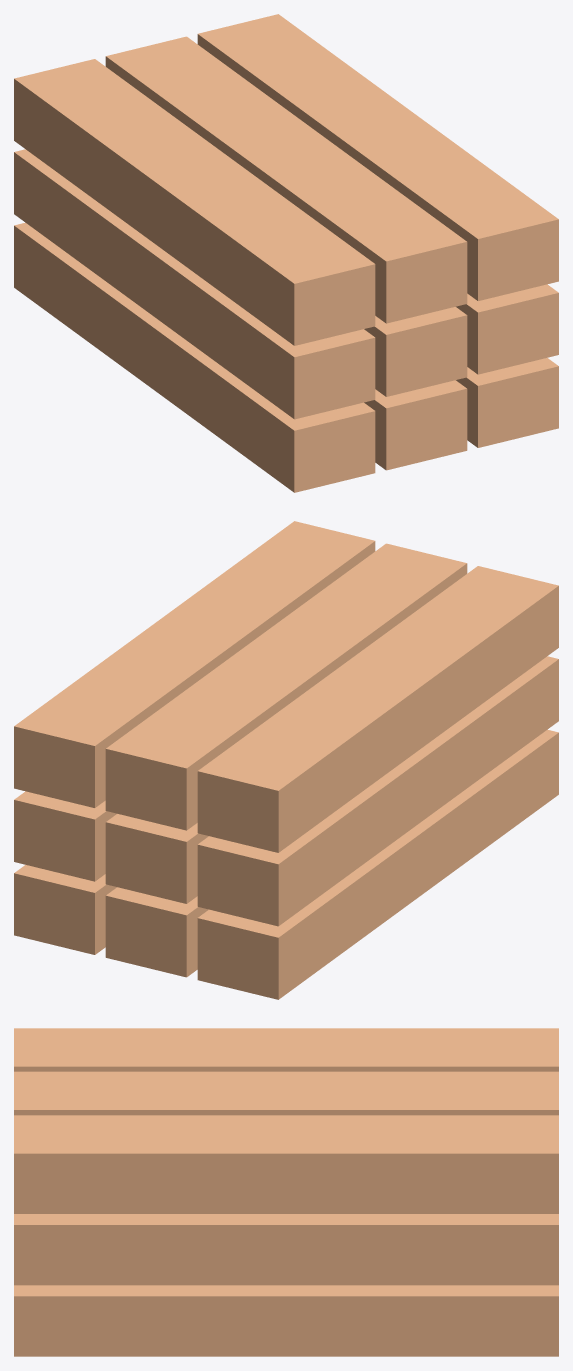
3 renders of one model, top to bottom at view 1: azimuth 30°, elevation 25°; view 2: azimuth 150°, elevation 25°; view 3: azimuth 270°, elevation 25°, orthographic. The views are drawn at different scales.
Visible parts, largest first — view 1: Timber.006, Timber.007, Timber.008, Timber.003, Timber, Timber.001, Timber.004, Timber.005, Timber.002; view 2: Timber.006, Timber.007, Timber.008, Timber.003, Timber, Timber.001, Timber.004, Timber.005, Timber.002; view 3: Timber.008, Timber.002, Timber.005, Timber.007, Timber.006.
Boxes of the visible parts, x1,y1,x2,y2 form: Timber.006: (14, 59, 375, 345); Timber.007: (105, 36, 467, 323); Timber.008: (197, 14, 558, 300); Timber.003: (14, 149, 375, 419); Timber: (14, 222, 375, 492); Timber.001: (364, 380, 467, 470); Timber.004: (364, 307, 467, 396); Timber.005: (456, 284, 558, 374); Timber.002: (456, 358, 558, 447); Timber.006: (197, 566, 558, 852); Timber.007: (105, 543, 467, 830); Timber.008: (14, 521, 375, 807); Timber.003: (197, 656, 558, 926); Timber: (197, 729, 558, 999); Timber.001: (105, 887, 208, 977); Timber.004: (105, 814, 208, 903); Timber.005: (14, 791, 116, 881); Timber.002: (14, 865, 116, 954); Timber.008: (14, 1115, 558, 1213); Timber.002: (14, 1285, 558, 1356); Timber.005: (14, 1214, 558, 1285); Timber.007: (14, 1071, 558, 1115); Timber.006: (14, 1028, 558, 1071).
Bounding box in the file's own units: 49 × 37 × 90.
